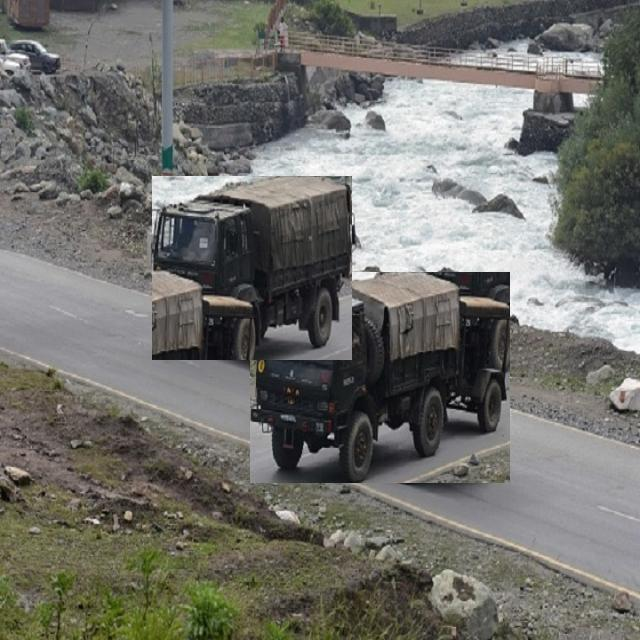truck: (250, 272, 510, 483), (152, 176, 351, 360)
